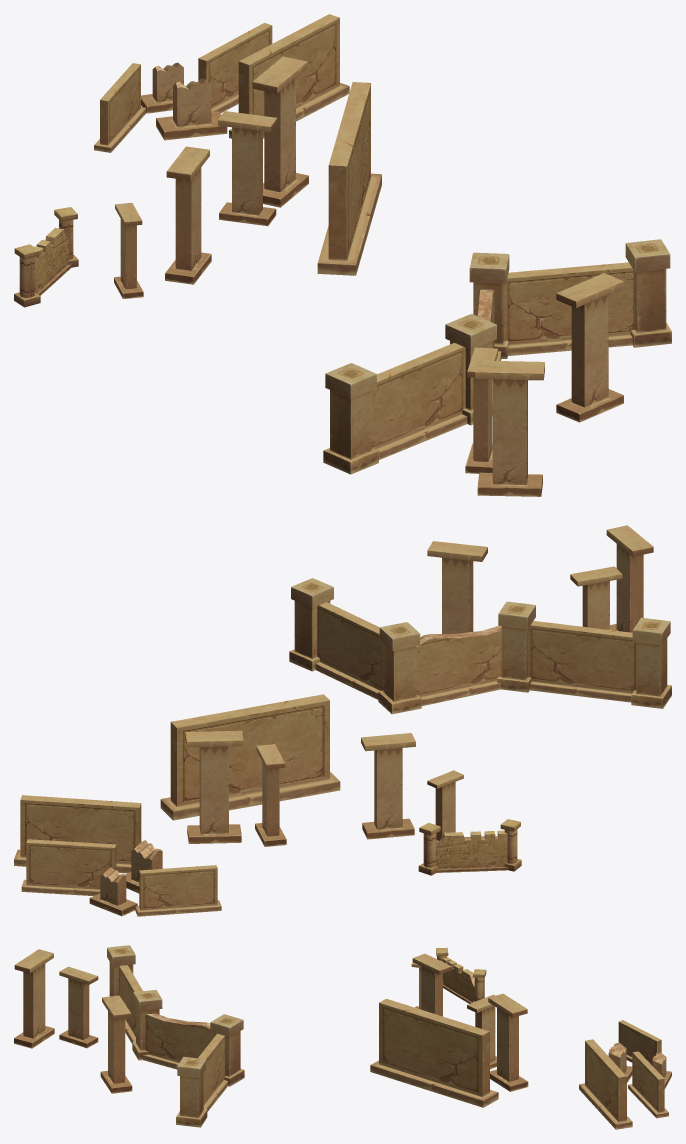
The model's file is qiangmian_10.fbx.
3 renders of one model, top to bottom at view 1: azimuth 30°, elevation 25°; view 2: azimuth 150°, elevation 25°; view 3: azimuth 270°, elevation 25°, orthographic. The views are drawn at different scales.
Parts seen in each view (by area): view 1: qiangmian_10; view 2: qiangmian_10; view 3: qiangmian_10.
Part boxes in pixels (box(x1,y1,x2,y2)): qiangmian_10: box(14, 14, 671, 496); qiangmian_10: box(14, 525, 671, 916); qiangmian_10: box(14, 945, 671, 1129).
Size of the model in its own units: 3798 by 970 by 7149.
Materials: 1 (1 with a texture image).
